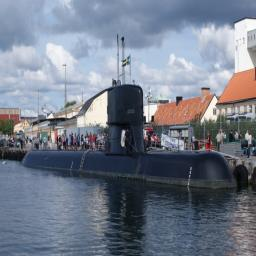submarine: (21, 92, 242, 189)
